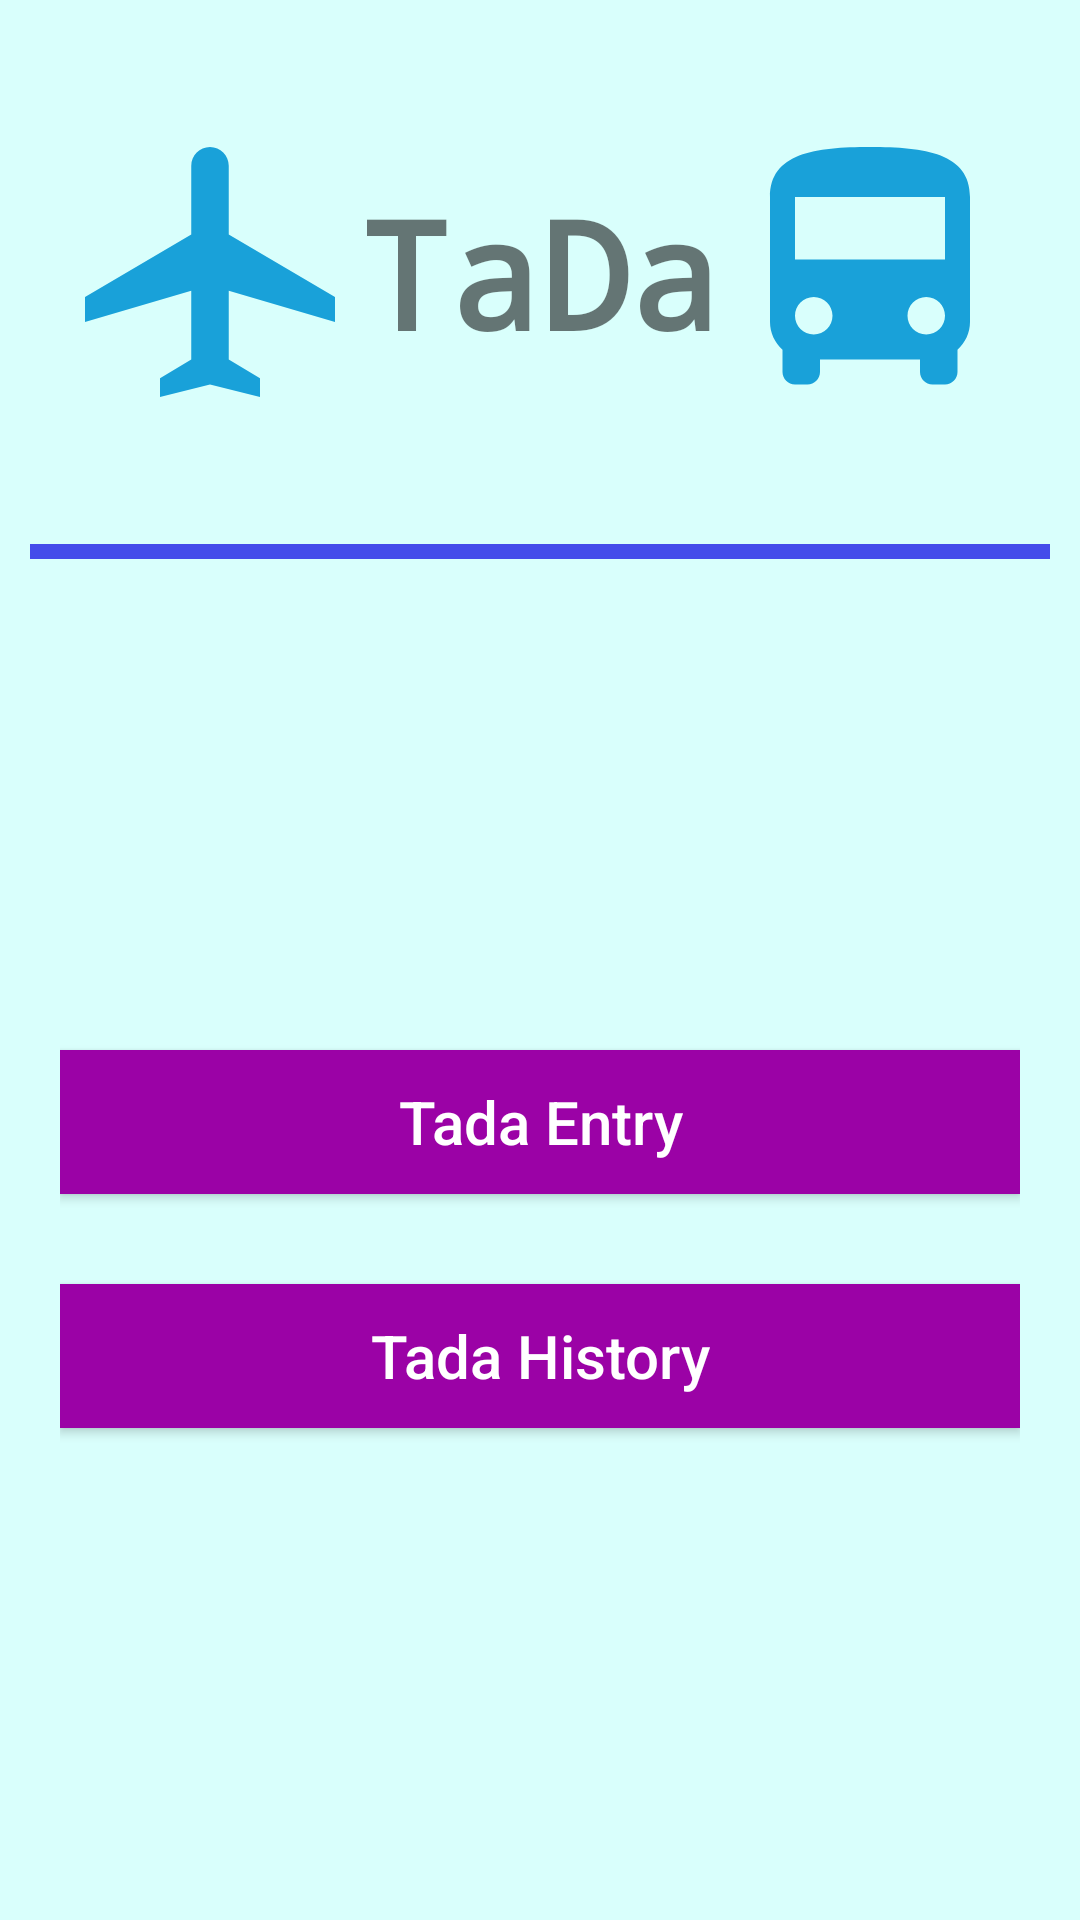

Named icons in this screenshot (1080×1920) and their bounding boxes, (x1, y1, x2, y2):
airplanemode: (85, 147, 335, 397)
directions bus: (770, 147, 970, 385)
